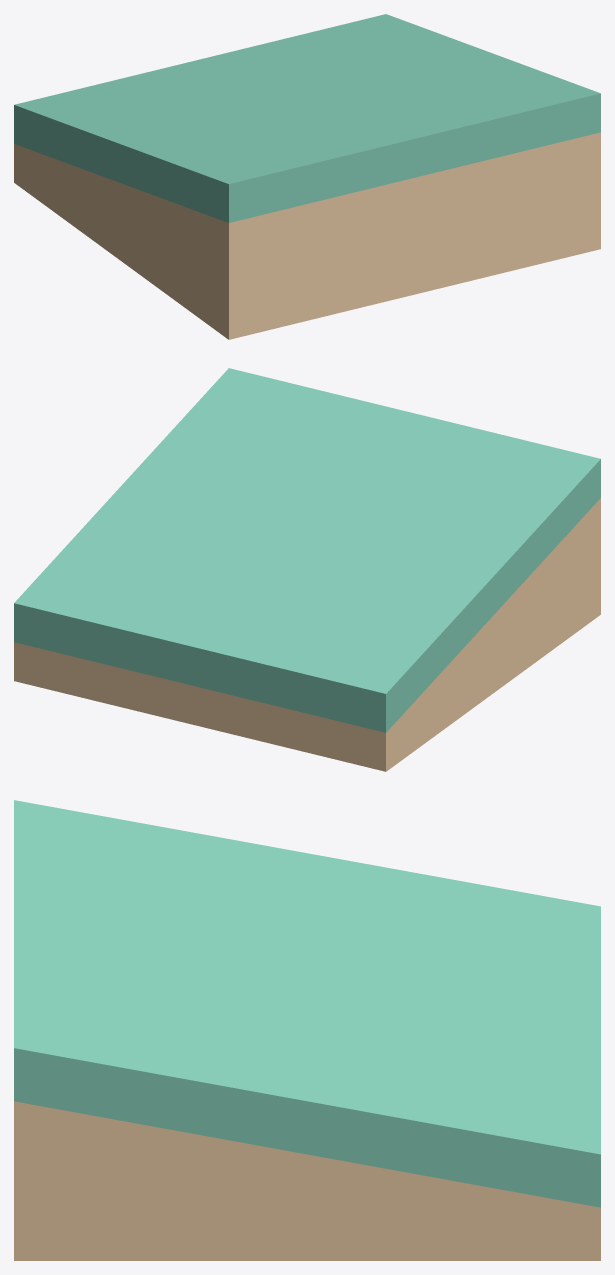
Rendered from tile_slope.glb.
The picture shows the model from 3 angles, top to bottom: view 1: azimuth 30°, elevation 25°; view 2: azimuth 150°, elevation 25°; view 3: azimuth 270°, elevation 25°; orthographic projection. The views are drawn at different scales.
Parts seen in each view (by area): view 1: tile_slope; view 2: tile_slope; view 3: tile_slope.
Boxes of the visible parts, x1,y1,x2,y2 form: tile_slope: (14, 14, 600, 339); tile_slope: (14, 368, 600, 771); tile_slope: (14, 800, 600, 1260).
Bounding box in the file's own units: 1 × 0.4 × 1.
